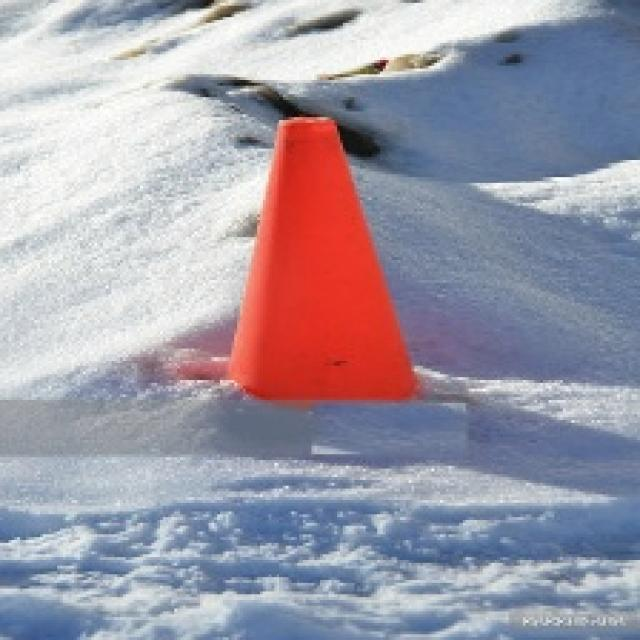cone: (222, 115, 425, 408)
